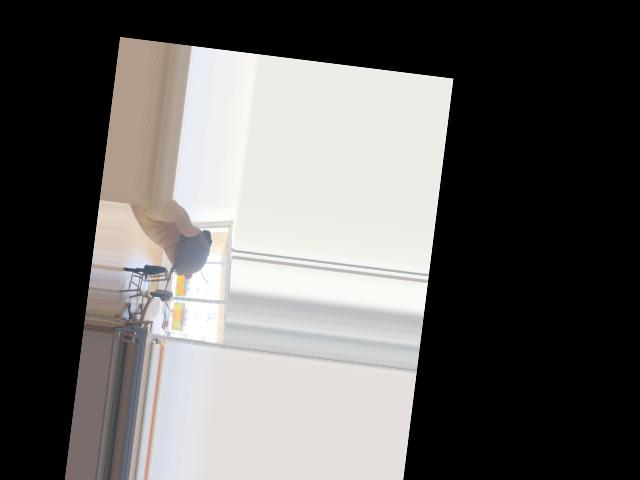beet: (162, 226, 213, 313)
